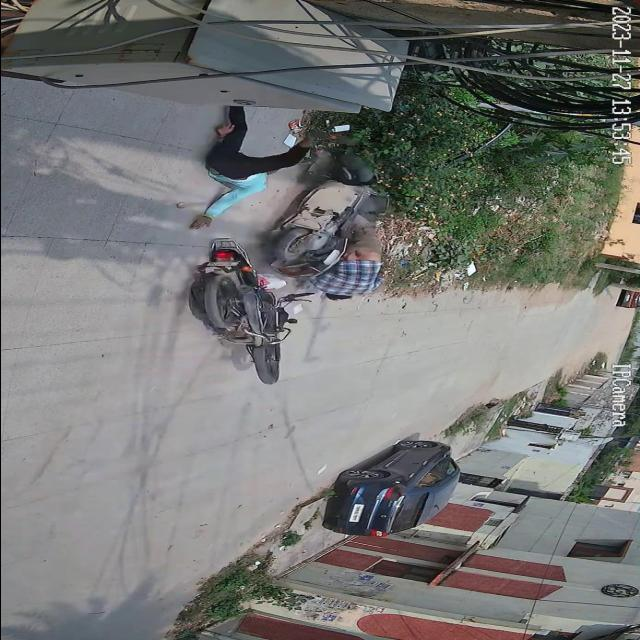accident: (161, 106, 413, 388)
